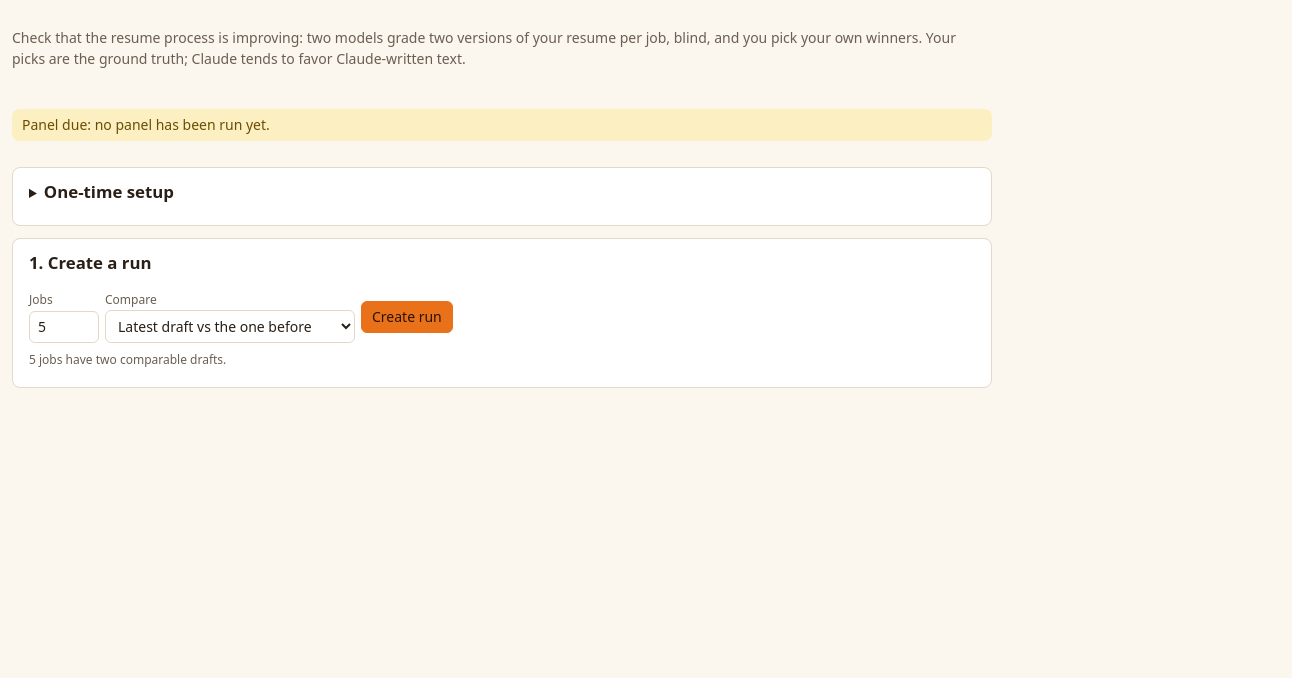
Test: PanelPage › shows the due reason and creates a run
The image size is (1292, 678).
Expected: the text "Panel due: no panel has been run yet." is shown, x1=12 y1=109 x2=992 y2=141
Click the button "Create run". click: (407, 317)
box: x1=361 y1=301 x2=453 y2=333
(page scrolled)
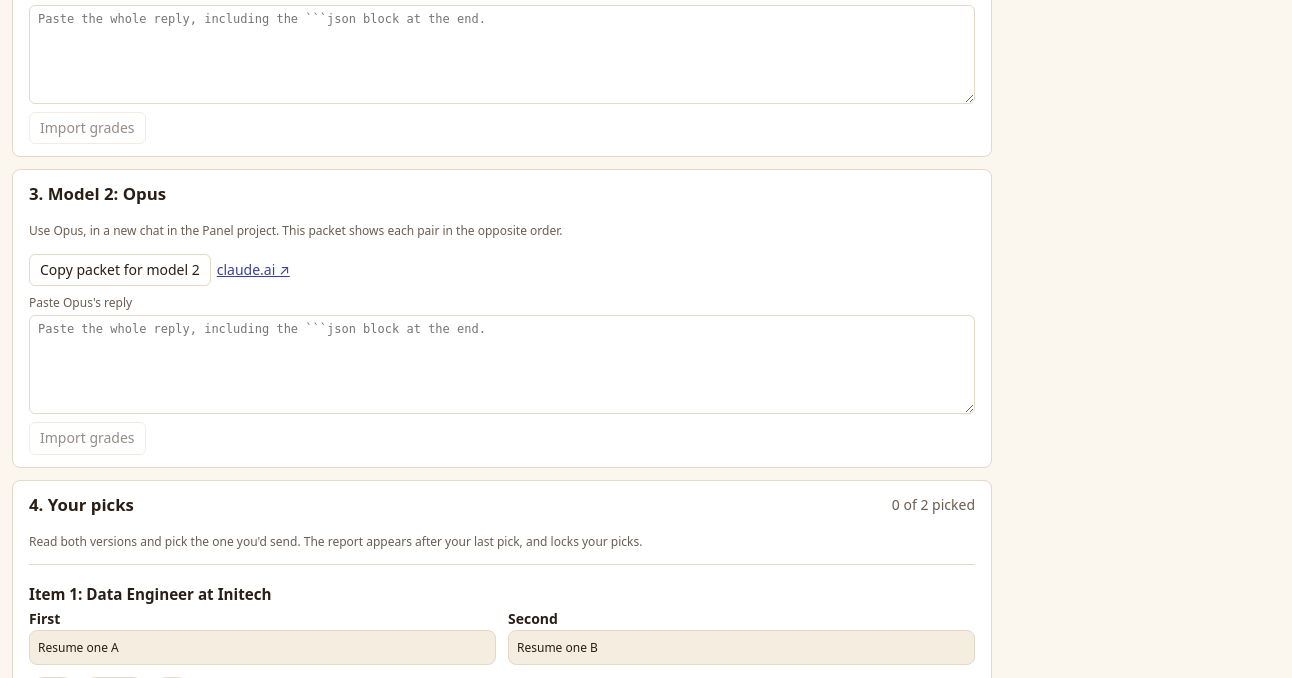
Expected: the element "Model 2: Opus" shows "opposite order", x1=279 y1=222 x2=562 y2=239
